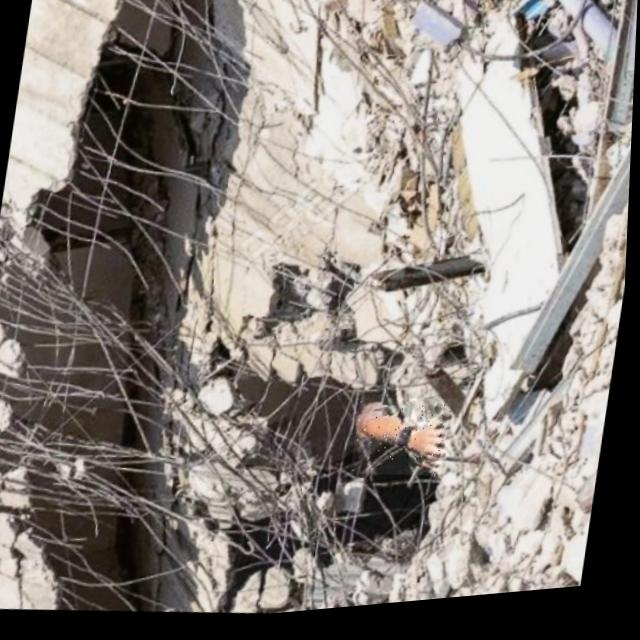Person in Rubble: (354, 397, 456, 489)
